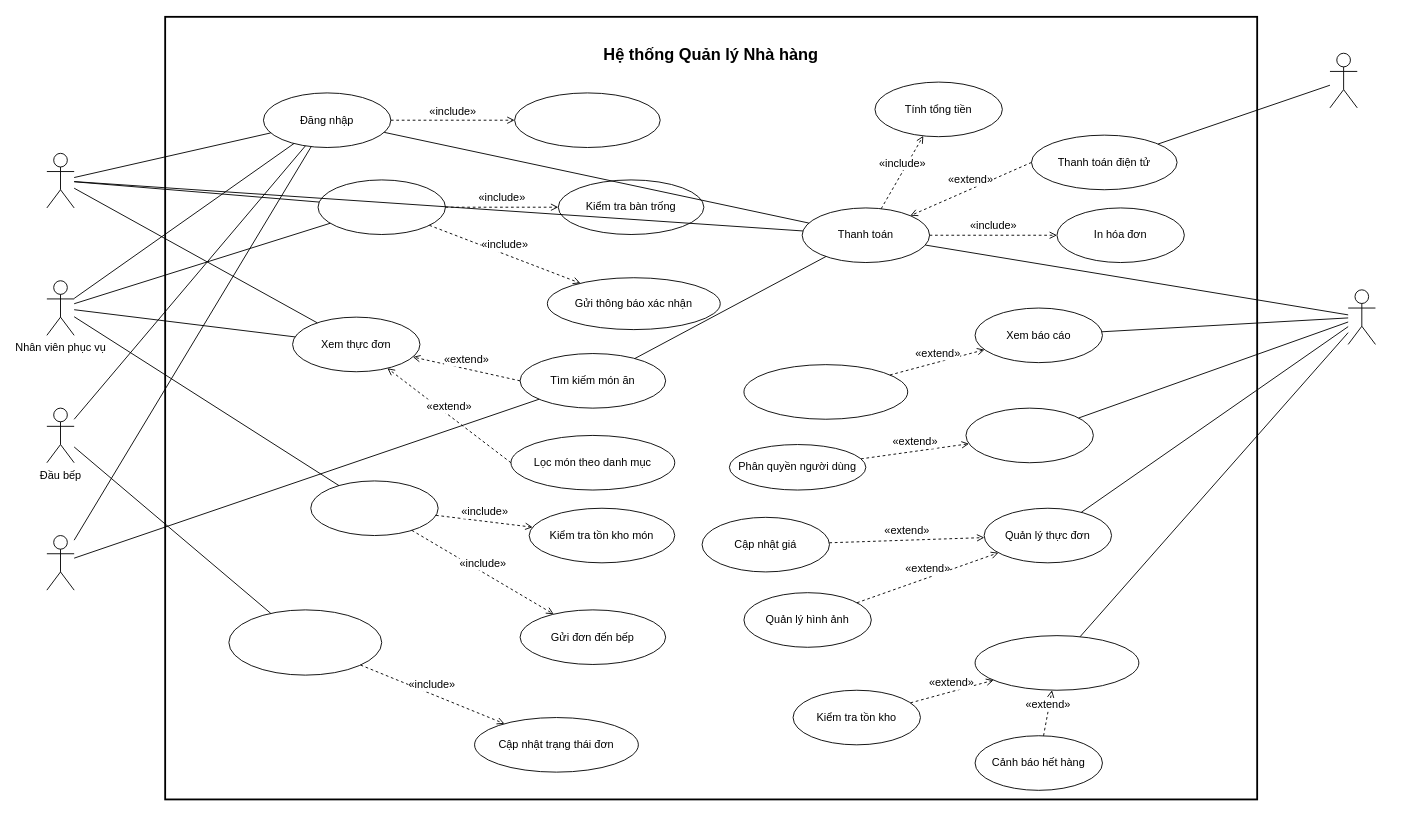
This 1409x815 diagram has some shape labels left out. The shapes that lost their labels are listed below. From the top down, each one's box as (x1, y1, x2, y2) in pixels, then its label:
(1329, 52, 1357, 108): Hệ thống thanh toán
(514, 92, 660, 148): Xác thực người dùng
(46, 152, 74, 208): Khách hàng
(317, 179, 445, 235): Đặt bàn
(1347, 289, 1375, 344): Quản lý
(743, 364, 908, 419): Xuất báo cáo PDF/Excel
(965, 407, 1093, 463): Quản lý nhân viên
(310, 480, 438, 536): Tạo đơn hàng
(46, 535, 74, 590): Thu ngân
(228, 609, 382, 675): Xử lý đơn hàng
(974, 635, 1139, 690): Quản lý kho nguyên liệu
